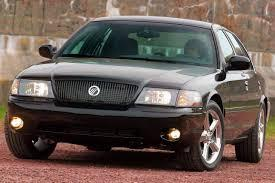Mercury: (85, 82, 104, 104)
